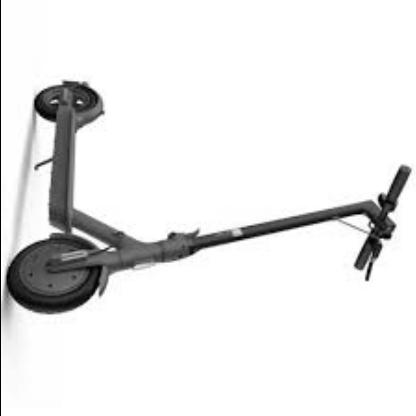bike: (7, 78, 408, 316)
